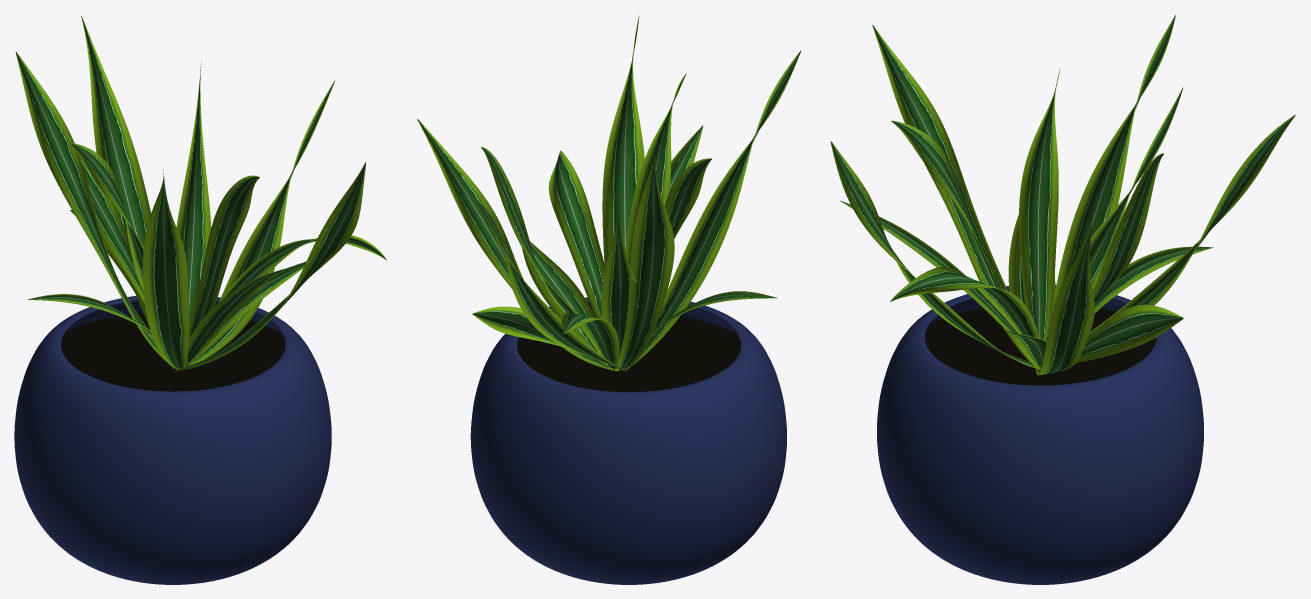
3 renders of one model, left to right at view 1: azimuth 30°, elevation 25°; view 2: azimuth 150°, elevation 25°; view 3: azimuth 270°, elevation 25°, orthographic. The views are drawn at different scales.
Visible parts, largest first — view 1: Material_001-material, plant-material (×3), dirt-material; view 2: Material_001-material, plant-material (×3), dirt-material; view 3: Material_001-material, plant-material (×3), dirt-material.
Part boxes in pixels (bbox=[...]): Material_001-material: bbox=[14, 296, 331, 584]; plant-material (×3): bbox=[15, 15, 386, 370]; dirt-material: bbox=[61, 312, 285, 391]; Material_001-material: bbox=[470, 297, 786, 584]; plant-material (×3): bbox=[417, 16, 800, 371]; dirt-material: bbox=[517, 314, 740, 392]; Material_001-material: bbox=[877, 284, 1203, 584]; plant-material (×3): bbox=[830, 15, 1295, 375]; dirt-material: bbox=[924, 308, 1155, 385].
Size of the model in its own units: 0.7245 by 1 by 0.8438.
3 materials, 1 textured.
